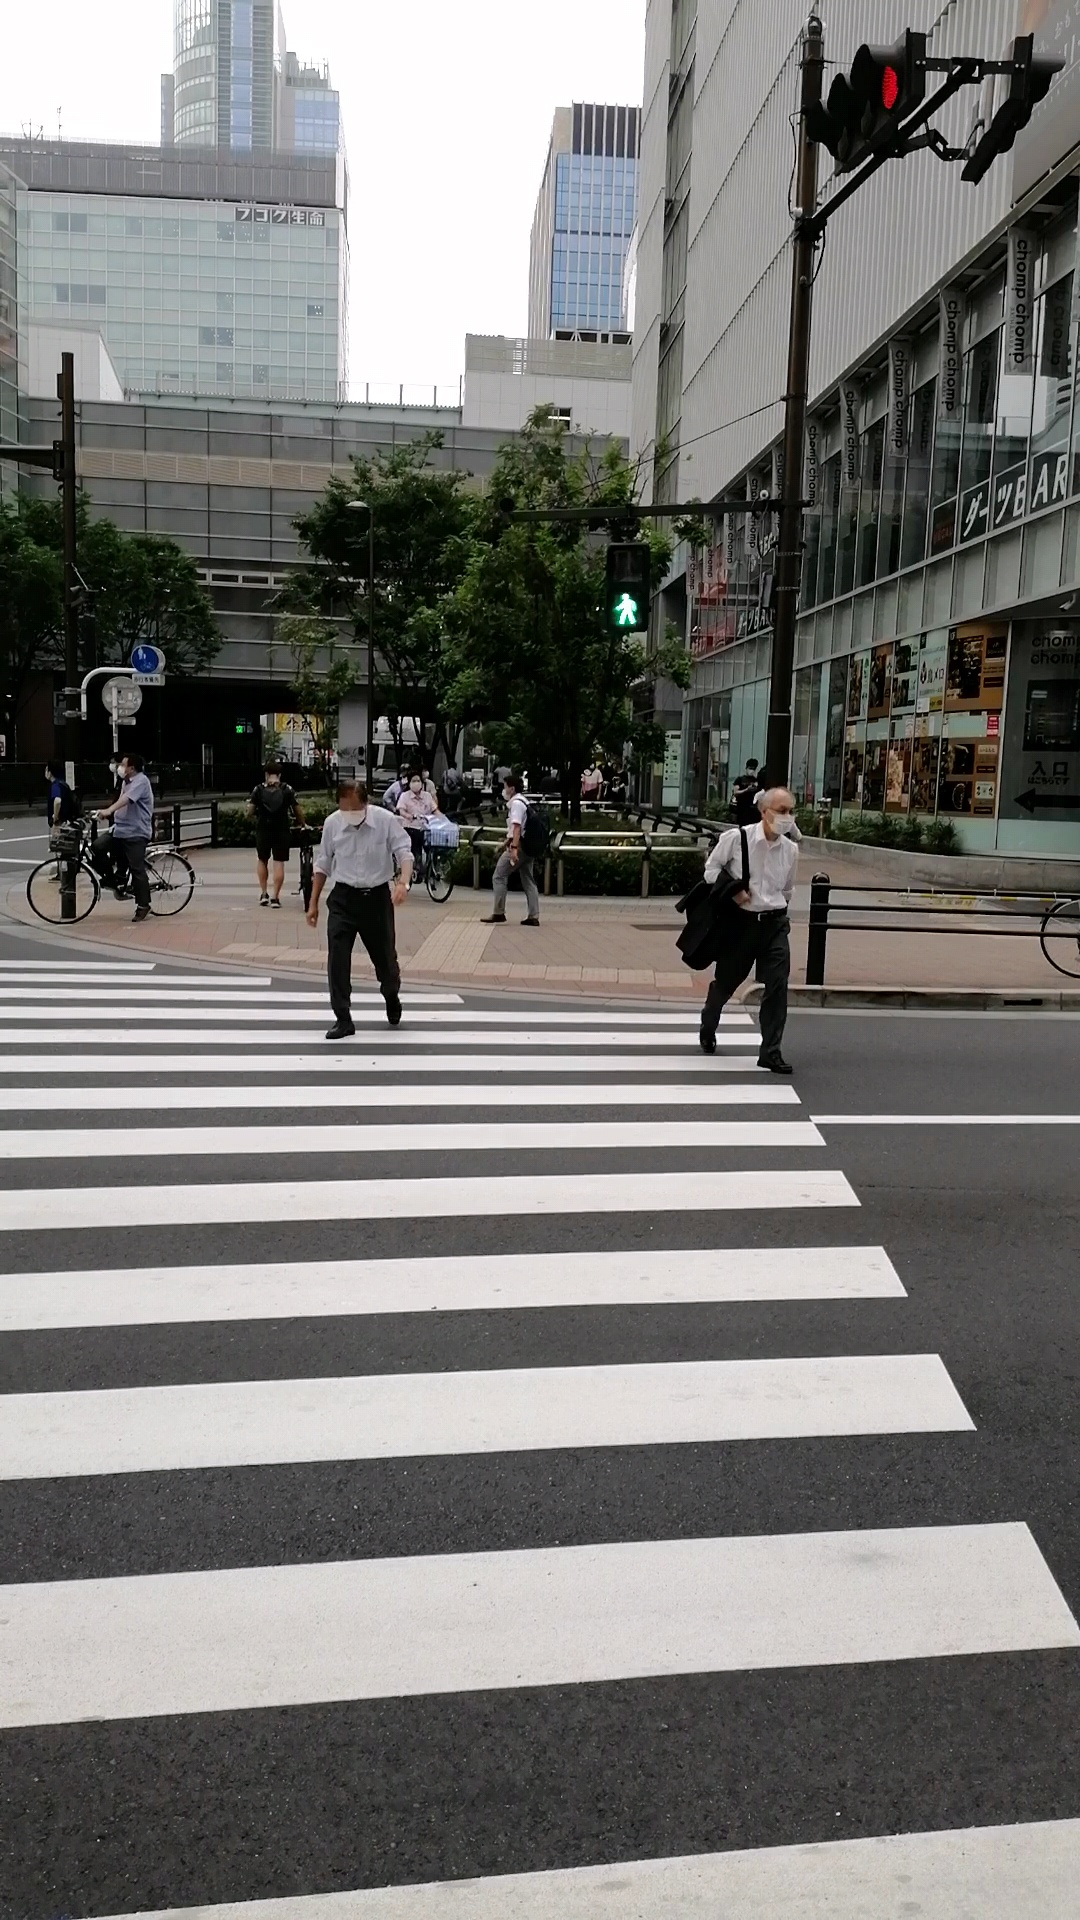green: (604, 542, 650, 633)
